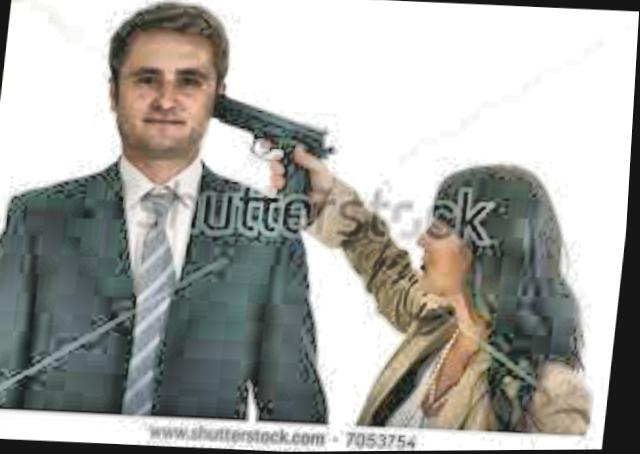pistol: (195, 86, 336, 216)
